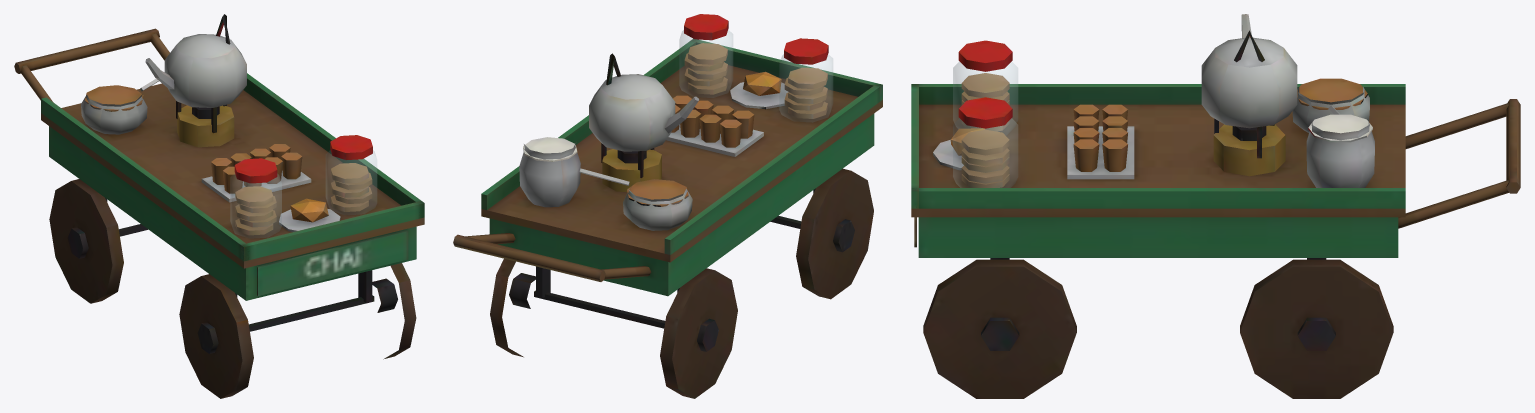
File: cart_chai.glb
The picture shows the model from 3 angles, left to right: view 1: azimuth 30°, elevation 25°; view 2: azimuth 150°, elevation 25°; view 3: azimuth 270°, elevation 25°; orthographic projection. The views are drawn at different scales.
Parts seen in each view (by area): view 1: cart_chai; view 2: cart_chai; view 3: cart_chai.
Part boxes in pixels (x1=…): cart_chai: x1=14, y1=14, x2=424, y2=398; cart_chai: x1=453, y1=14, x2=882, y2=398; cart_chai: x1=911, y1=14, x2=1520, y2=398.
Size of the model in its own units: 5.42 by 7.69 by 12.7.
Materials: 2 (1 with a texture image).
